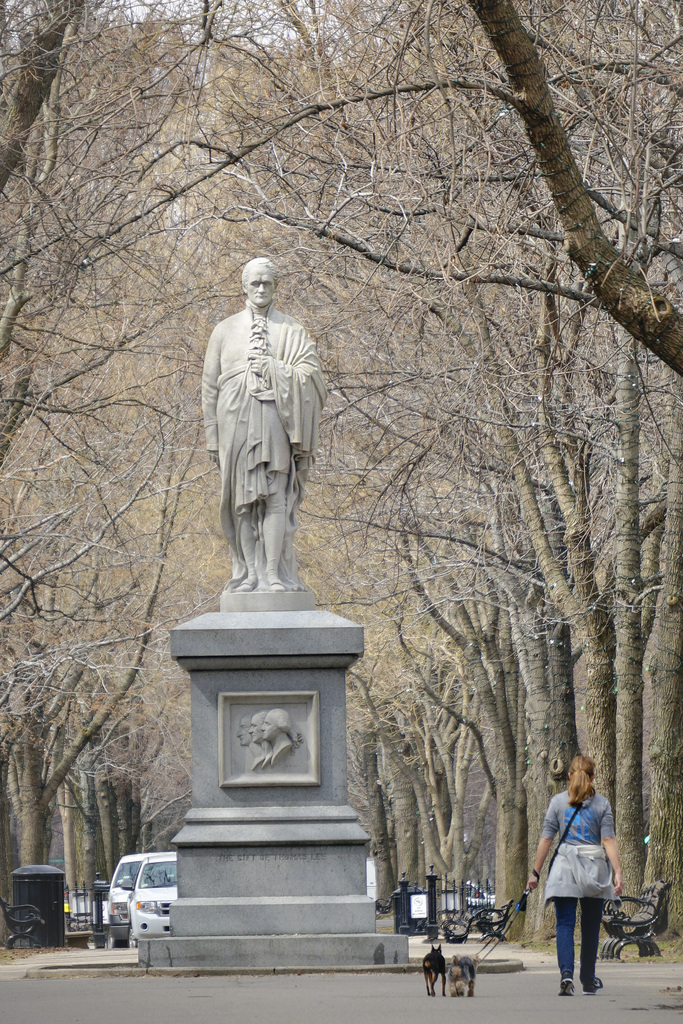Tree: (0, 402, 682, 948), (0, 0, 682, 405)
